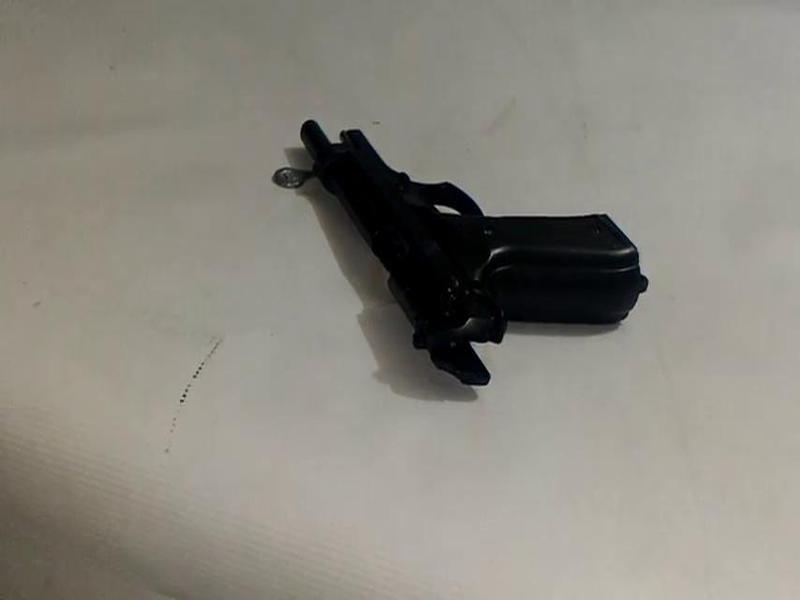Pistola: (265, 84, 663, 426)
